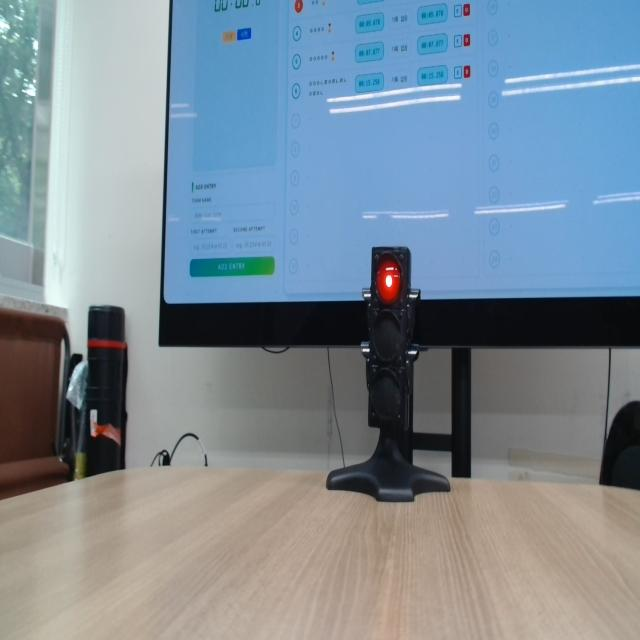red_light: (376, 257, 401, 304)
